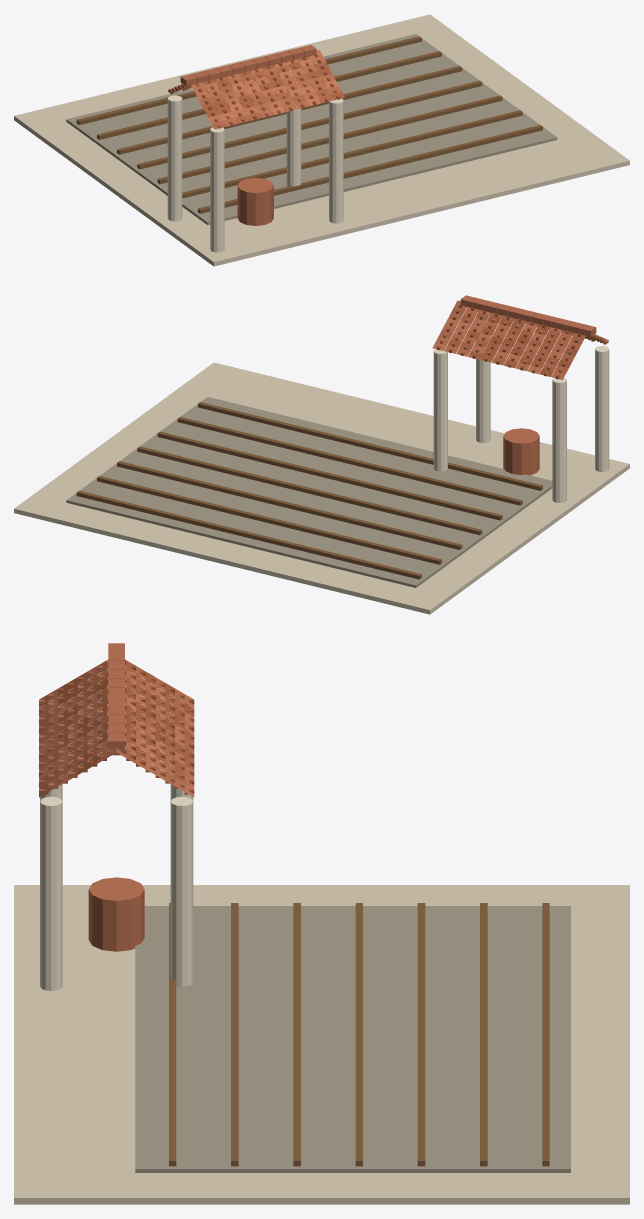
3 views of the same model, one above another, from view 1: azimuth 30°, elevation 25°; view 2: azimuth 150°, elevation 25°; view 3: azimuth 270°, elevation 25° (orthographic). The views are drawn at different scales.
Parts seen in each view (by area): view 1: Bergfried – Steine, Säulen, Ziegel und Feuerstelle; view 2: Bergfried – Steine, Säulen, Ziegel und Feuerstelle; view 3: Bergfried – Steine, Säulen, Ziegel und Feuerstelle.
Part boxes in pixels (<box>): Bergfried – Steine, Säulen, Ziegel und Feuerstelle: <box>14,14,629,266</box>; Bergfried – Steine, Säulen, Ziegel und Feuerstelle: <box>14,295,629,614</box>; Bergfried – Steine, Säulen, Ziegel und Feuerstelle: <box>14,643,629,1204</box>.
Bounding box in the file's own units: 1190 × 445 × 990.
